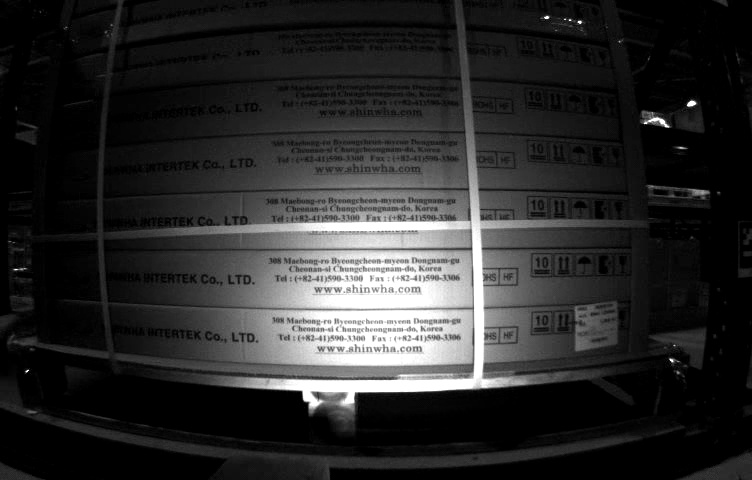True Barcode: (572, 298, 617, 349)
